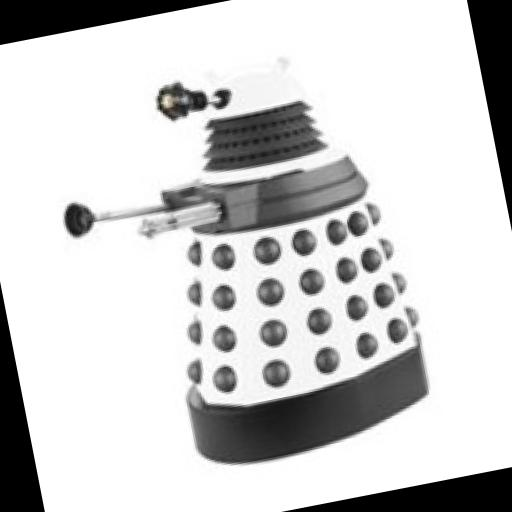dalek: (31, 30, 450, 490)
